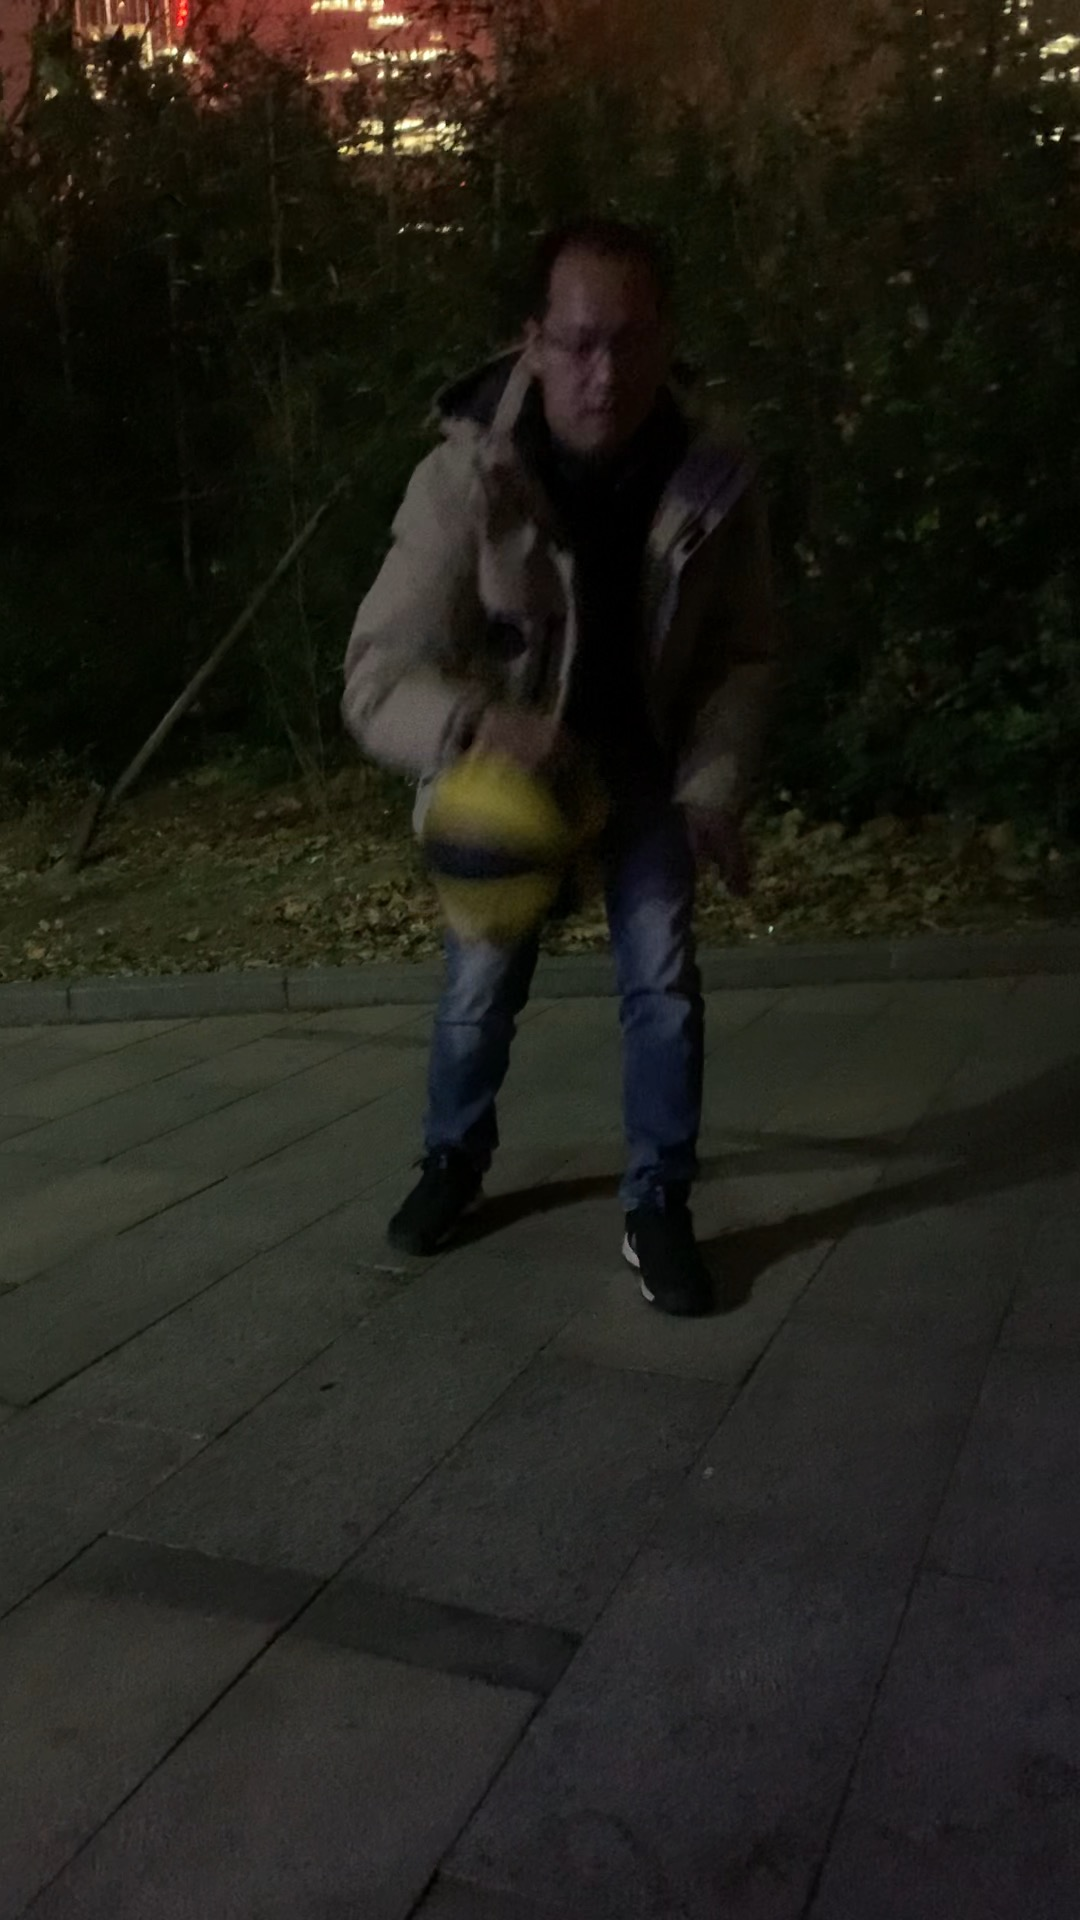ball: (425, 745, 626, 939)
